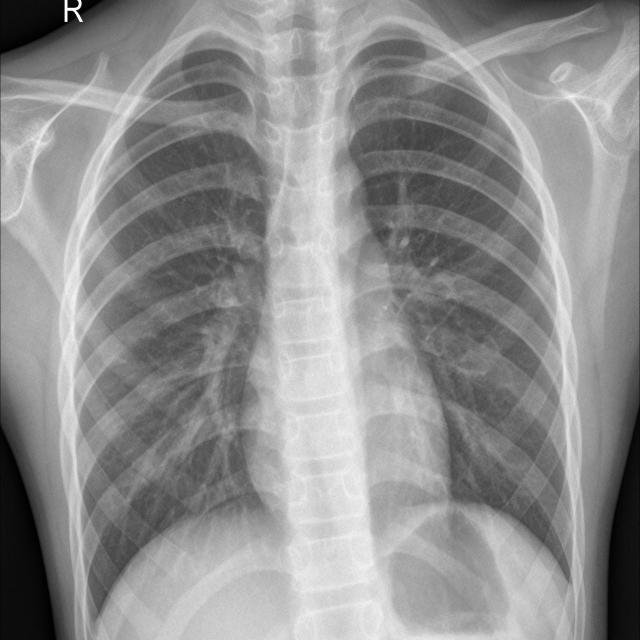no-pneumonia: (65, 37, 285, 619), (350, 41, 579, 581)
